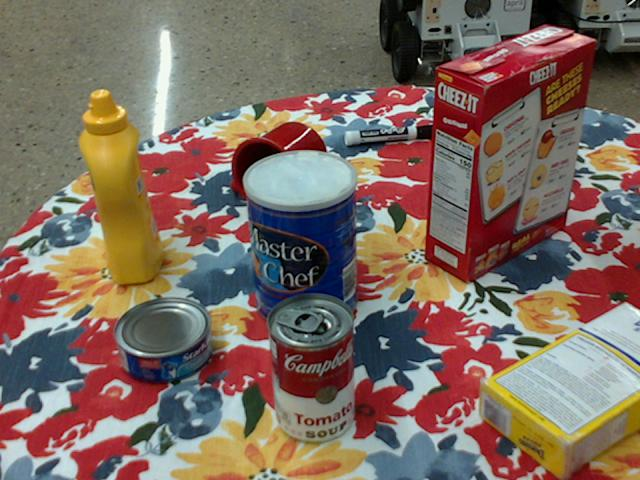cracker_box: (428, 26, 596, 282)
gelatin_box: (501, 128, 568, 183)
large_marker: (344, 123, 436, 144)
master_chef_can: (242, 149, 355, 332)
mug: (229, 121, 326, 216)
mustard_bottle: (79, 91, 162, 285)
sugar_box: (479, 301, 639, 478)
tomato_soup_can: (265, 292, 353, 443)
tuna_fish_can: (111, 296, 210, 381)
